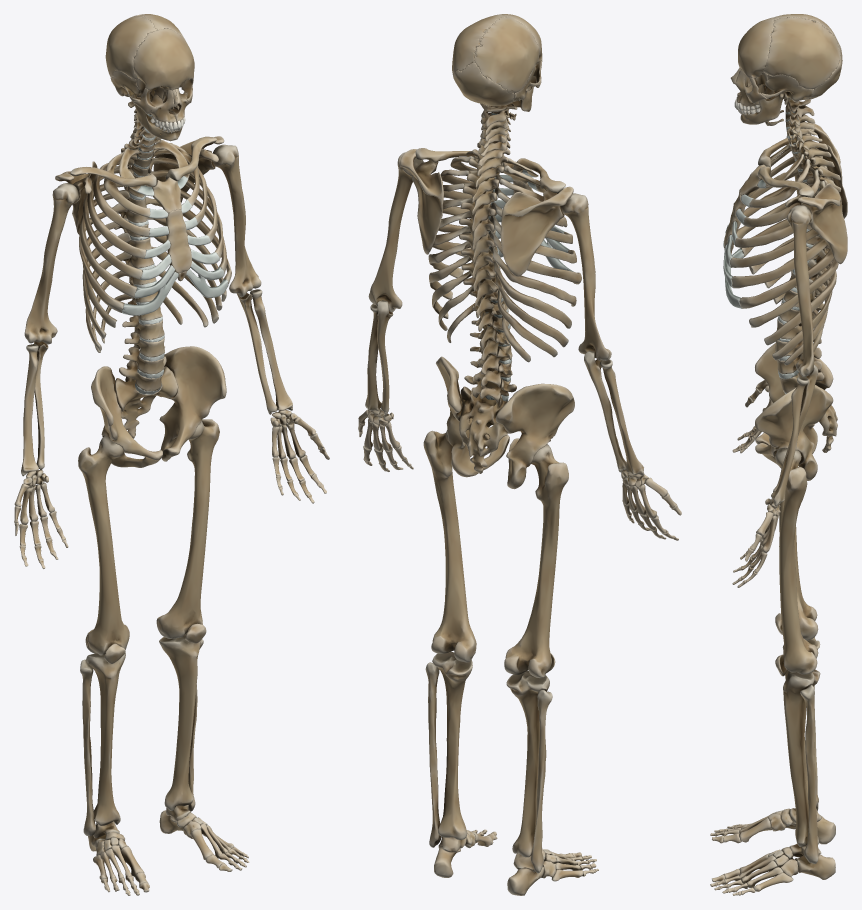
The model's file is skeleton.dc3a4436.glb.
3 renders of one model, left to right at view 1: azimuth 30°, elevation 25°; view 2: azimuth 150°, elevation 25°; view 3: azimuth 270°, elevation 25°, orthographic. The views are drawn at different scales.
Visible parts, largest first — view 1: Ribs, Femora, Tibia and fibula, Skull, Pelvis, Vertebral column, Humeri, Hand bones, Foot bones, Radius and ulna, Costal cartilages, Sternum (+3 smaller); view 2: Vertebral column, Femora, Ribs, Tibia and fibula, Skull, Pelvis, Scapulae, Humeri, Radius and ulna, Hand bones, Foot bones, Clavicles (+1 smaller); view 3: Ribs, Skull, Femora, Tibia and fibula, Foot bones, Vertebral column, Pelvis, Scapulae, Humeri, Hand bones, Radius and ulna, Costal cartilages (+4 smaller).
Part boxes in pixels (<box>): Ribs: <box>79,139,231,352</box>; Femora: <box>78,419,219,655</box>; Tibia and fibula: <box>80,632,203,835</box>; Skull: <box>105,14,194,123</box>; Pelvis: <box>91,346,226,467</box>; Vertebral column: <box>114,97,178,438</box>; Humeri: <box>24,144,261,344</box>; Hand bones: <box>14,410,329,569</box>; Foot bones: <box>88,805,249,895</box>; Radius and ulna: <box>21,289,292,476</box>; Costal cartilages: <box>122,176,228,315</box>; Sternum: <box>152,177,192,281</box>; Vertebral column: <box>459,102,517,473</box>; Femora: <box>423,430,568,678</box>; Ribs: <box>428,150,581,362</box>; Tibia and fibula: <box>425,651,552,873</box>; Skull: <box>452,14,542,106</box>; Pelvis: <box>436,356,574,489</box>; Scapulae: <box>400,149,573,276</box>; Humeri: <box>368,152,611,360</box>; Radius and ulna: <box>365,300,644,475</box>; Hand bones: <box>358,409,681,540</box>; Foot bones: <box>434,829,598,895</box>; Clavicles: <box>415,148,565,192</box>; Ribs: <box>730,143,838,365</box>; Skull: <box>730,14,842,106</box>; Femora: <box>775,448,818,674</box>; Tibia and fibula: <box>782,637,820,863</box>; Foot bones: <box>710,808,835,895</box>; Vertebral column: <box>775,99,841,452</box>; Pelvis: <box>755,343,833,480</box>; Scapulae: <box>785,122,847,264</box>; Humeri: <box>786,134,814,376</box>; Hand bones: <box>732,380,780,587</box>; Radius and ulna: <box>771,365,818,506</box>; Costal cartilages: <box>723,179,766,308</box>.
Size of the model in its own units: 1.62 by 4.11 by 0.6061.
